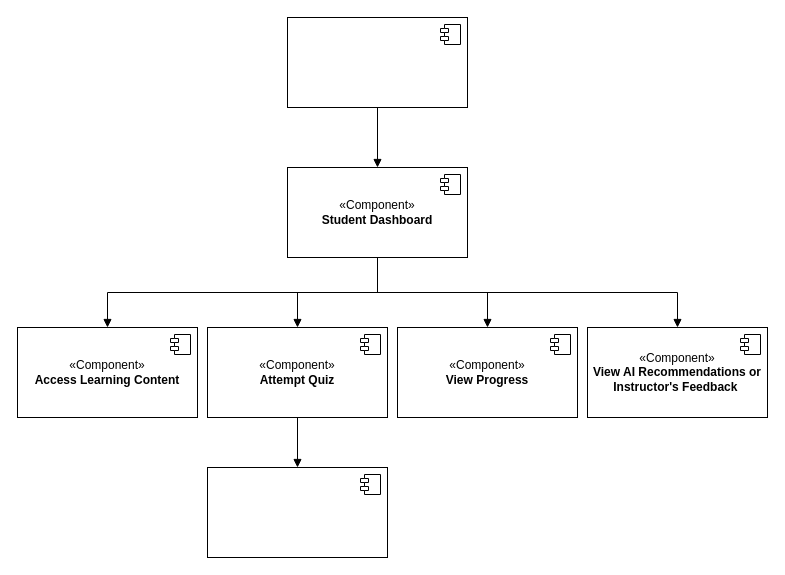
The diagram is 785 pixels wide and 575 high, and some of its shapes have lost their labels. Each missing label, with the centre of its shape:
"«Component» Login" goes at point 377,62.
"«Component» Submit Quiz" goes at point 297,512.
